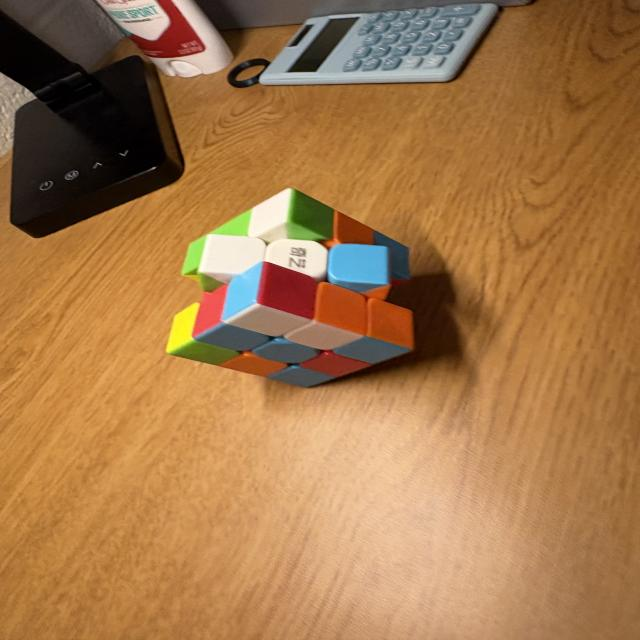Rubiks Cube: (167, 188, 416, 389)
